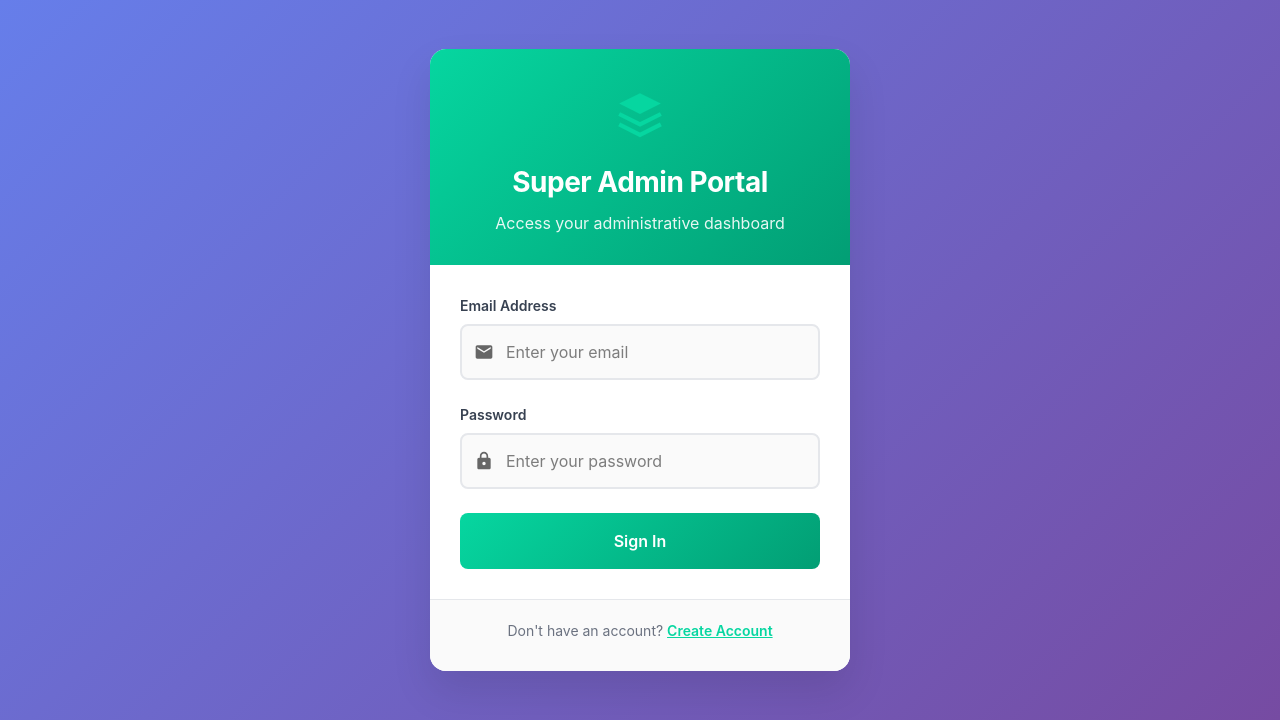
Test: SuperAdminLogin › should show validation errors for empty fields
The image size is (1280, 720).
Click the button "Sign In". click: click(640, 541)
box: [460,513,820,569]
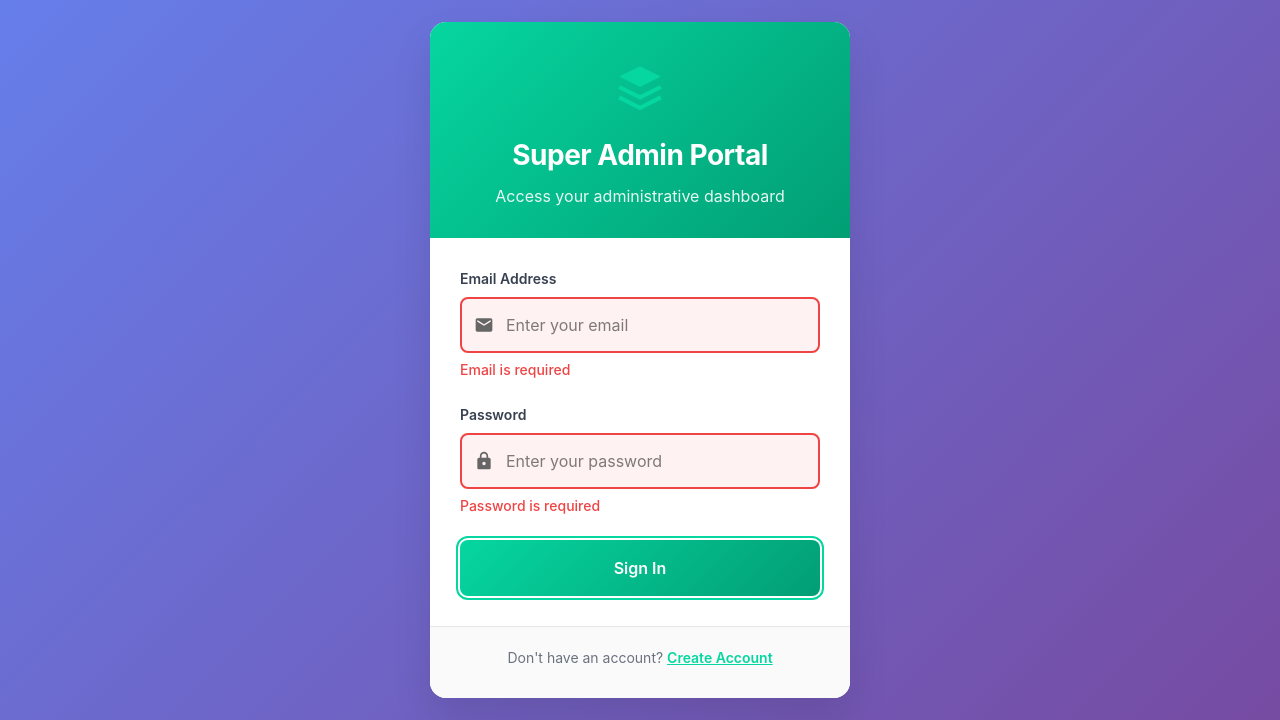
Now the text "Email is required" is shown, box [460,361,570,378]
Now the text "Password is required" is shown, box [460,497,600,514]
